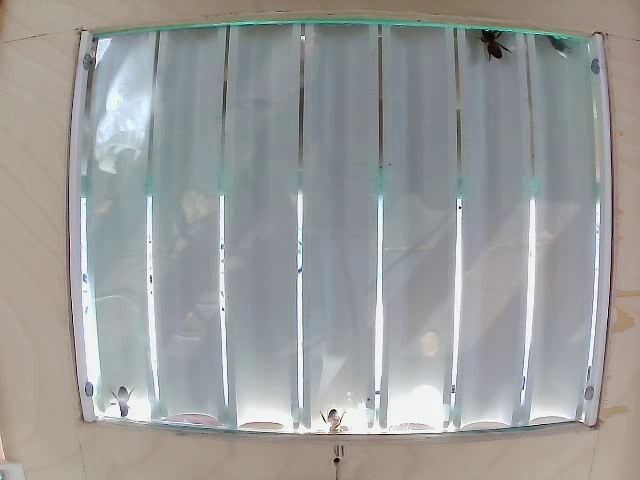bee: (475, 24, 510, 78), (542, 28, 574, 74)
